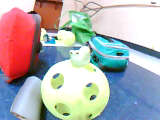Ball: (40, 59, 110, 120), (58, 29, 77, 47)
